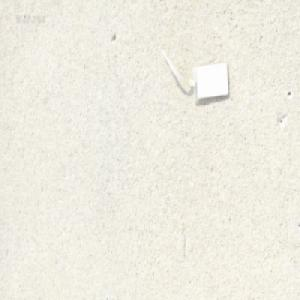LuggageTag: (156, 45, 229, 105)
